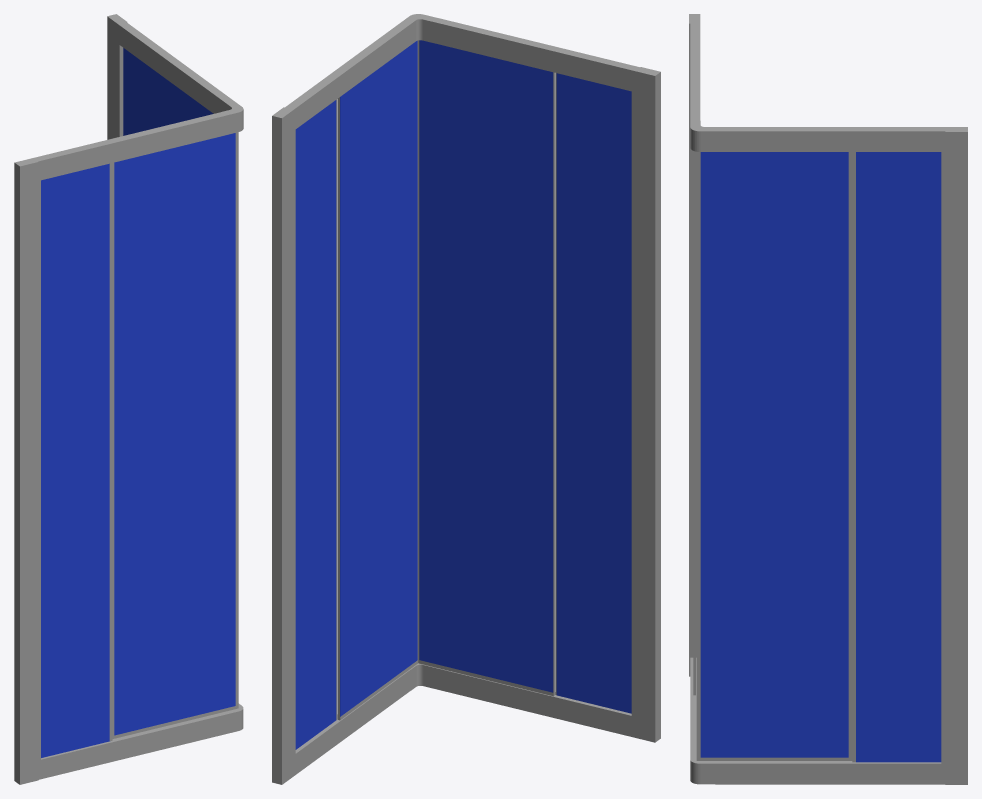
File: Shower NEW.fbx
3 renders of one model, left to right at view 1: azimuth 30°, elevation 25°; view 2: azimuth 150°, elevation 25°; view 3: azimuth 270°, elevation 25°, orthographic. The views are drawn at different scales.
Parts seen in each view (by area): view 1: glass, border, decoration; view 2: glass, border, decoration; view 3: glass, border, decoration.
Part boxes in pixels (x1,y1,x2,y2): glass: (41, 48, 235, 757); border: (14, 14, 243, 784); decoration: (109, 132, 238, 741); glass: (295, 40, 631, 749); border: (272, 14, 660, 784); decoration: (336, 40, 556, 720); glass: (700, 152, 941, 762); border: (689, 14, 967, 784); decoration: (693, 151, 855, 762).
Bounding box in the file's own units: 73.55 × 190 × 73.55.
